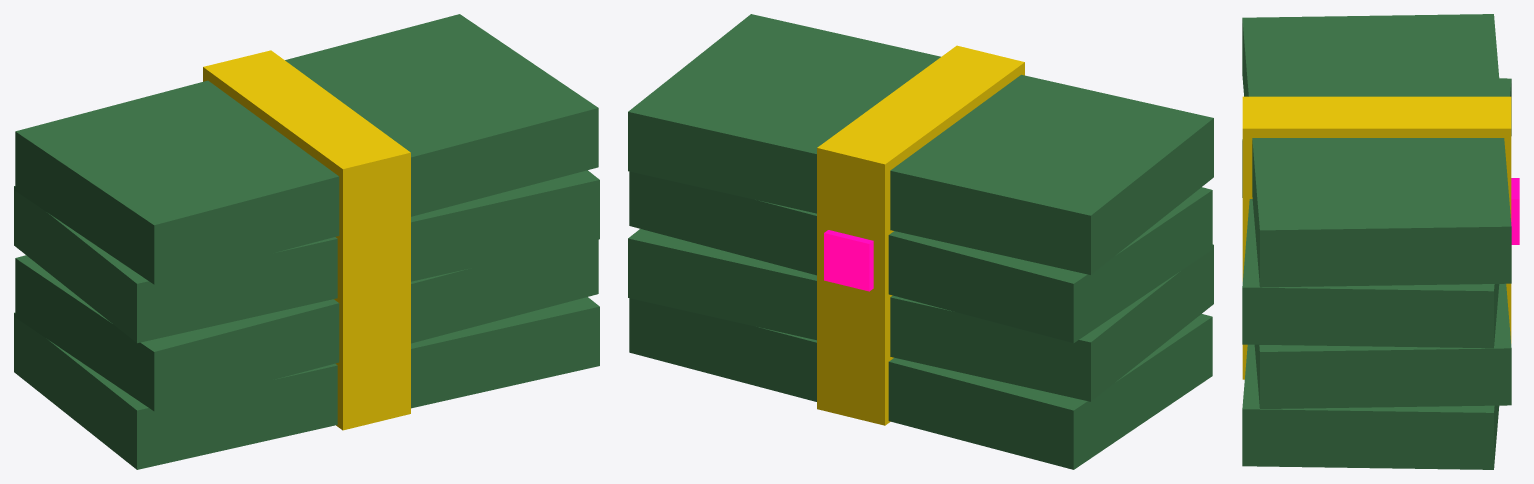
File: Loot_CashBundle.fbx
3 views of the same model, side by side, from view 1: azimuth 30°, elevation 25°; view 2: azimuth 150°, elevation 25°; view 3: azimuth 270°, elevation 25° (orthographic). The views are drawn at different scales.
Parts seen in each view (by area): view 1: Loot_CashBundle__CashGreen, Loot_CashBundle__NeonGold; view 2: Loot_CashBundle__CashGreen, Loot_CashBundle__NeonGold, Loot_CashBundle__NeonCrimson; view 3: Loot_CashBundle__CashGreen, Loot_CashBundle__NeonGold, Loot_CashBundle__NeonCrimson.
Boxes of the visible parts, <box> form: Loot_CashBundle__CashGreen: <box>14,14,599,469</box>; Loot_CashBundle__NeonGold: <box>203,50,410,430</box>; Loot_CashBundle__CashGreen: <box>628,14,1213,469</box>; Loot_CashBundle__NeonGold: <box>817,45,1024,425</box>; Loot_CashBundle__NeonCrimson: <box>824,230,873,291</box>; Loot_CashBundle__CashGreen: <box>1242,14,1511,469</box>; Loot_CashBundle__NeonGold: <box>1242,96,1511,379</box>; Loot_CashBundle__NeonCrimson: <box>1511,178,1519,244</box>.
Bounding box in the file's own units: 1.22 × 0.66 × 0.6608.
